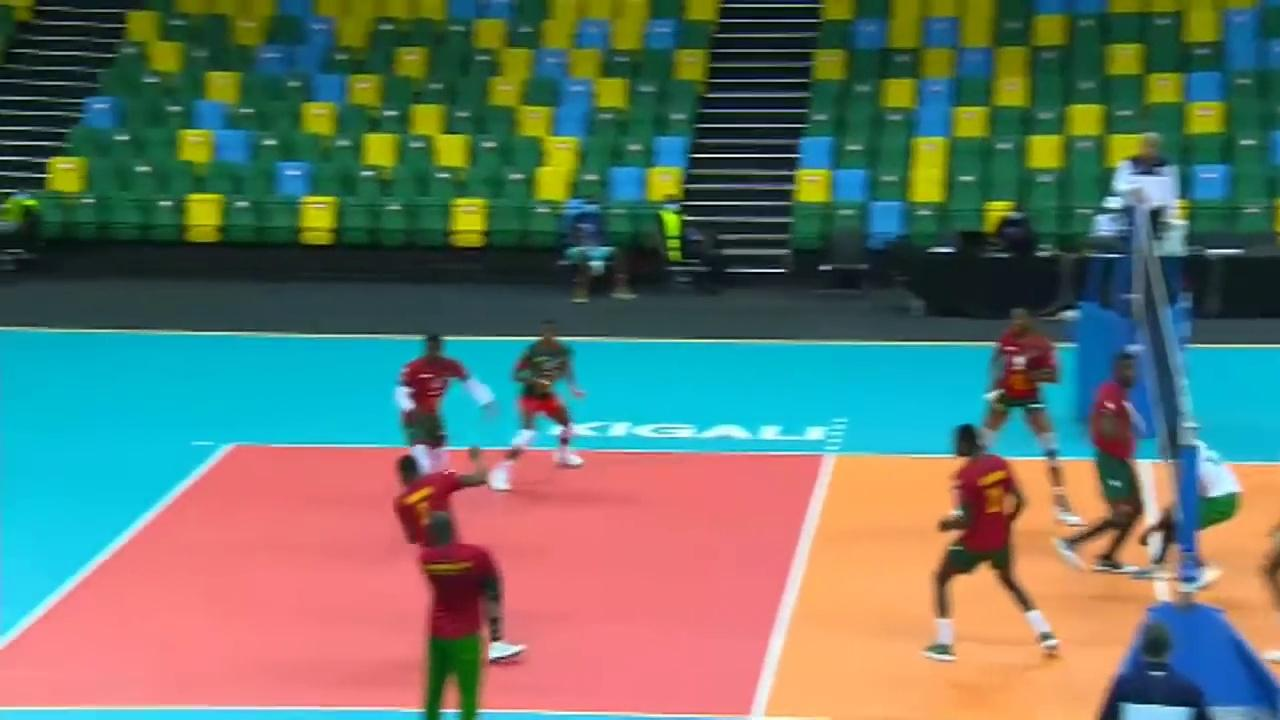player: (920, 423, 1061, 665), (382, 454, 533, 654), (969, 306, 1081, 531), (1071, 353, 1151, 582), (395, 332, 497, 506), (1148, 431, 1251, 594), (512, 327, 587, 469)
refree: (1094, 621, 1223, 720), (1114, 127, 1179, 279)
